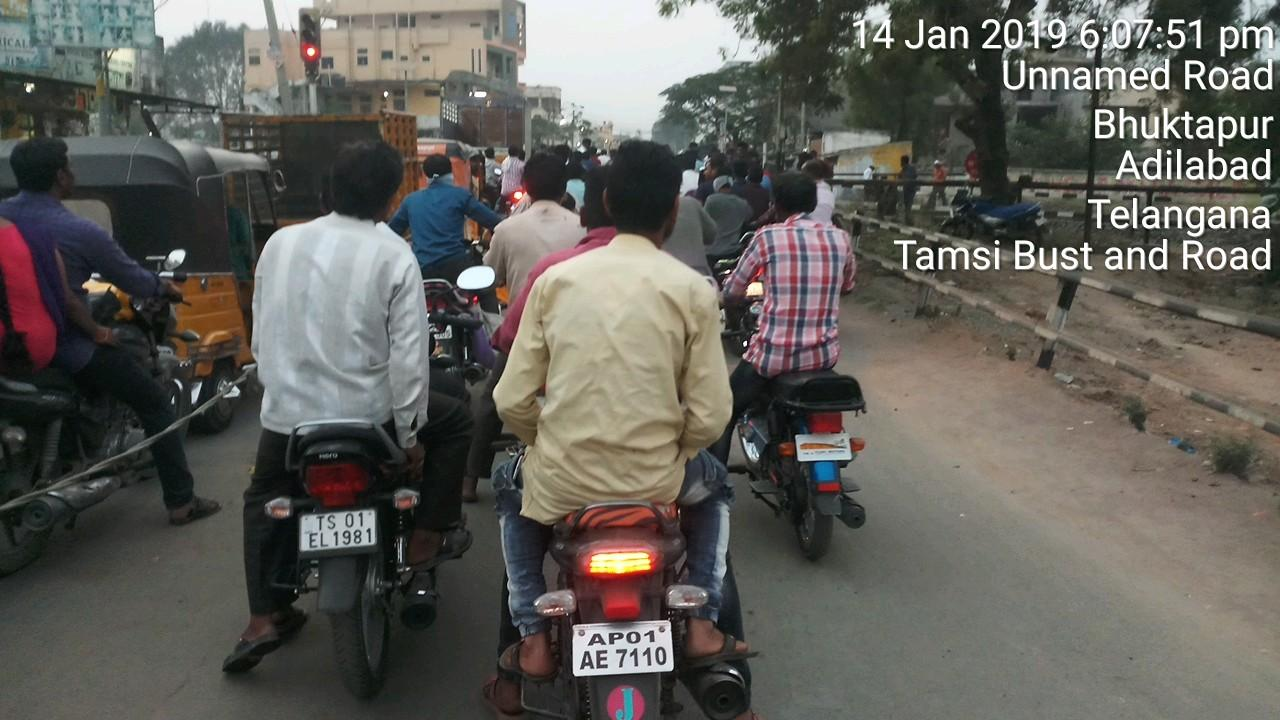plate: (569, 616, 677, 675), (293, 504, 384, 561), (793, 430, 858, 464)
